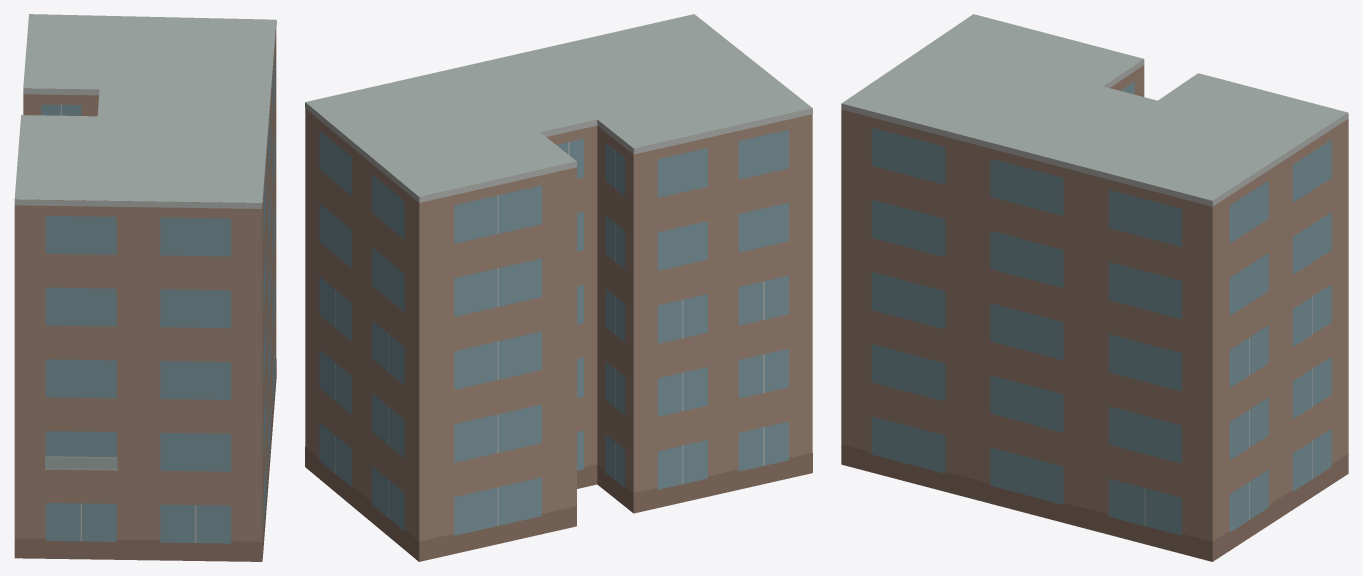
File: survey-upis-32700603.glb
3 renders of one model, left to right at view 1: azimuth 30°, elevation 25°; view 2: azimuth 150°, elevation 25°; view 3: azimuth 270°, elevation 25°, orthographic.
Visible parts, largest first — view 1: survey-upis-32700603.tmp; view 2: survey-upis-32700603.tmp; view 3: survey-upis-32700603.tmp.
Part boxes in pixels (x1,y1,x2,y2): survey-upis-32700603.tmp: (14,14,276,561); survey-upis-32700603.tmp: (305,14,812,561); survey-upis-32700603.tmp: (841,14,1348,561).
Bounding box in the file's own units: 16.43 × 14.8 × 18.85.
